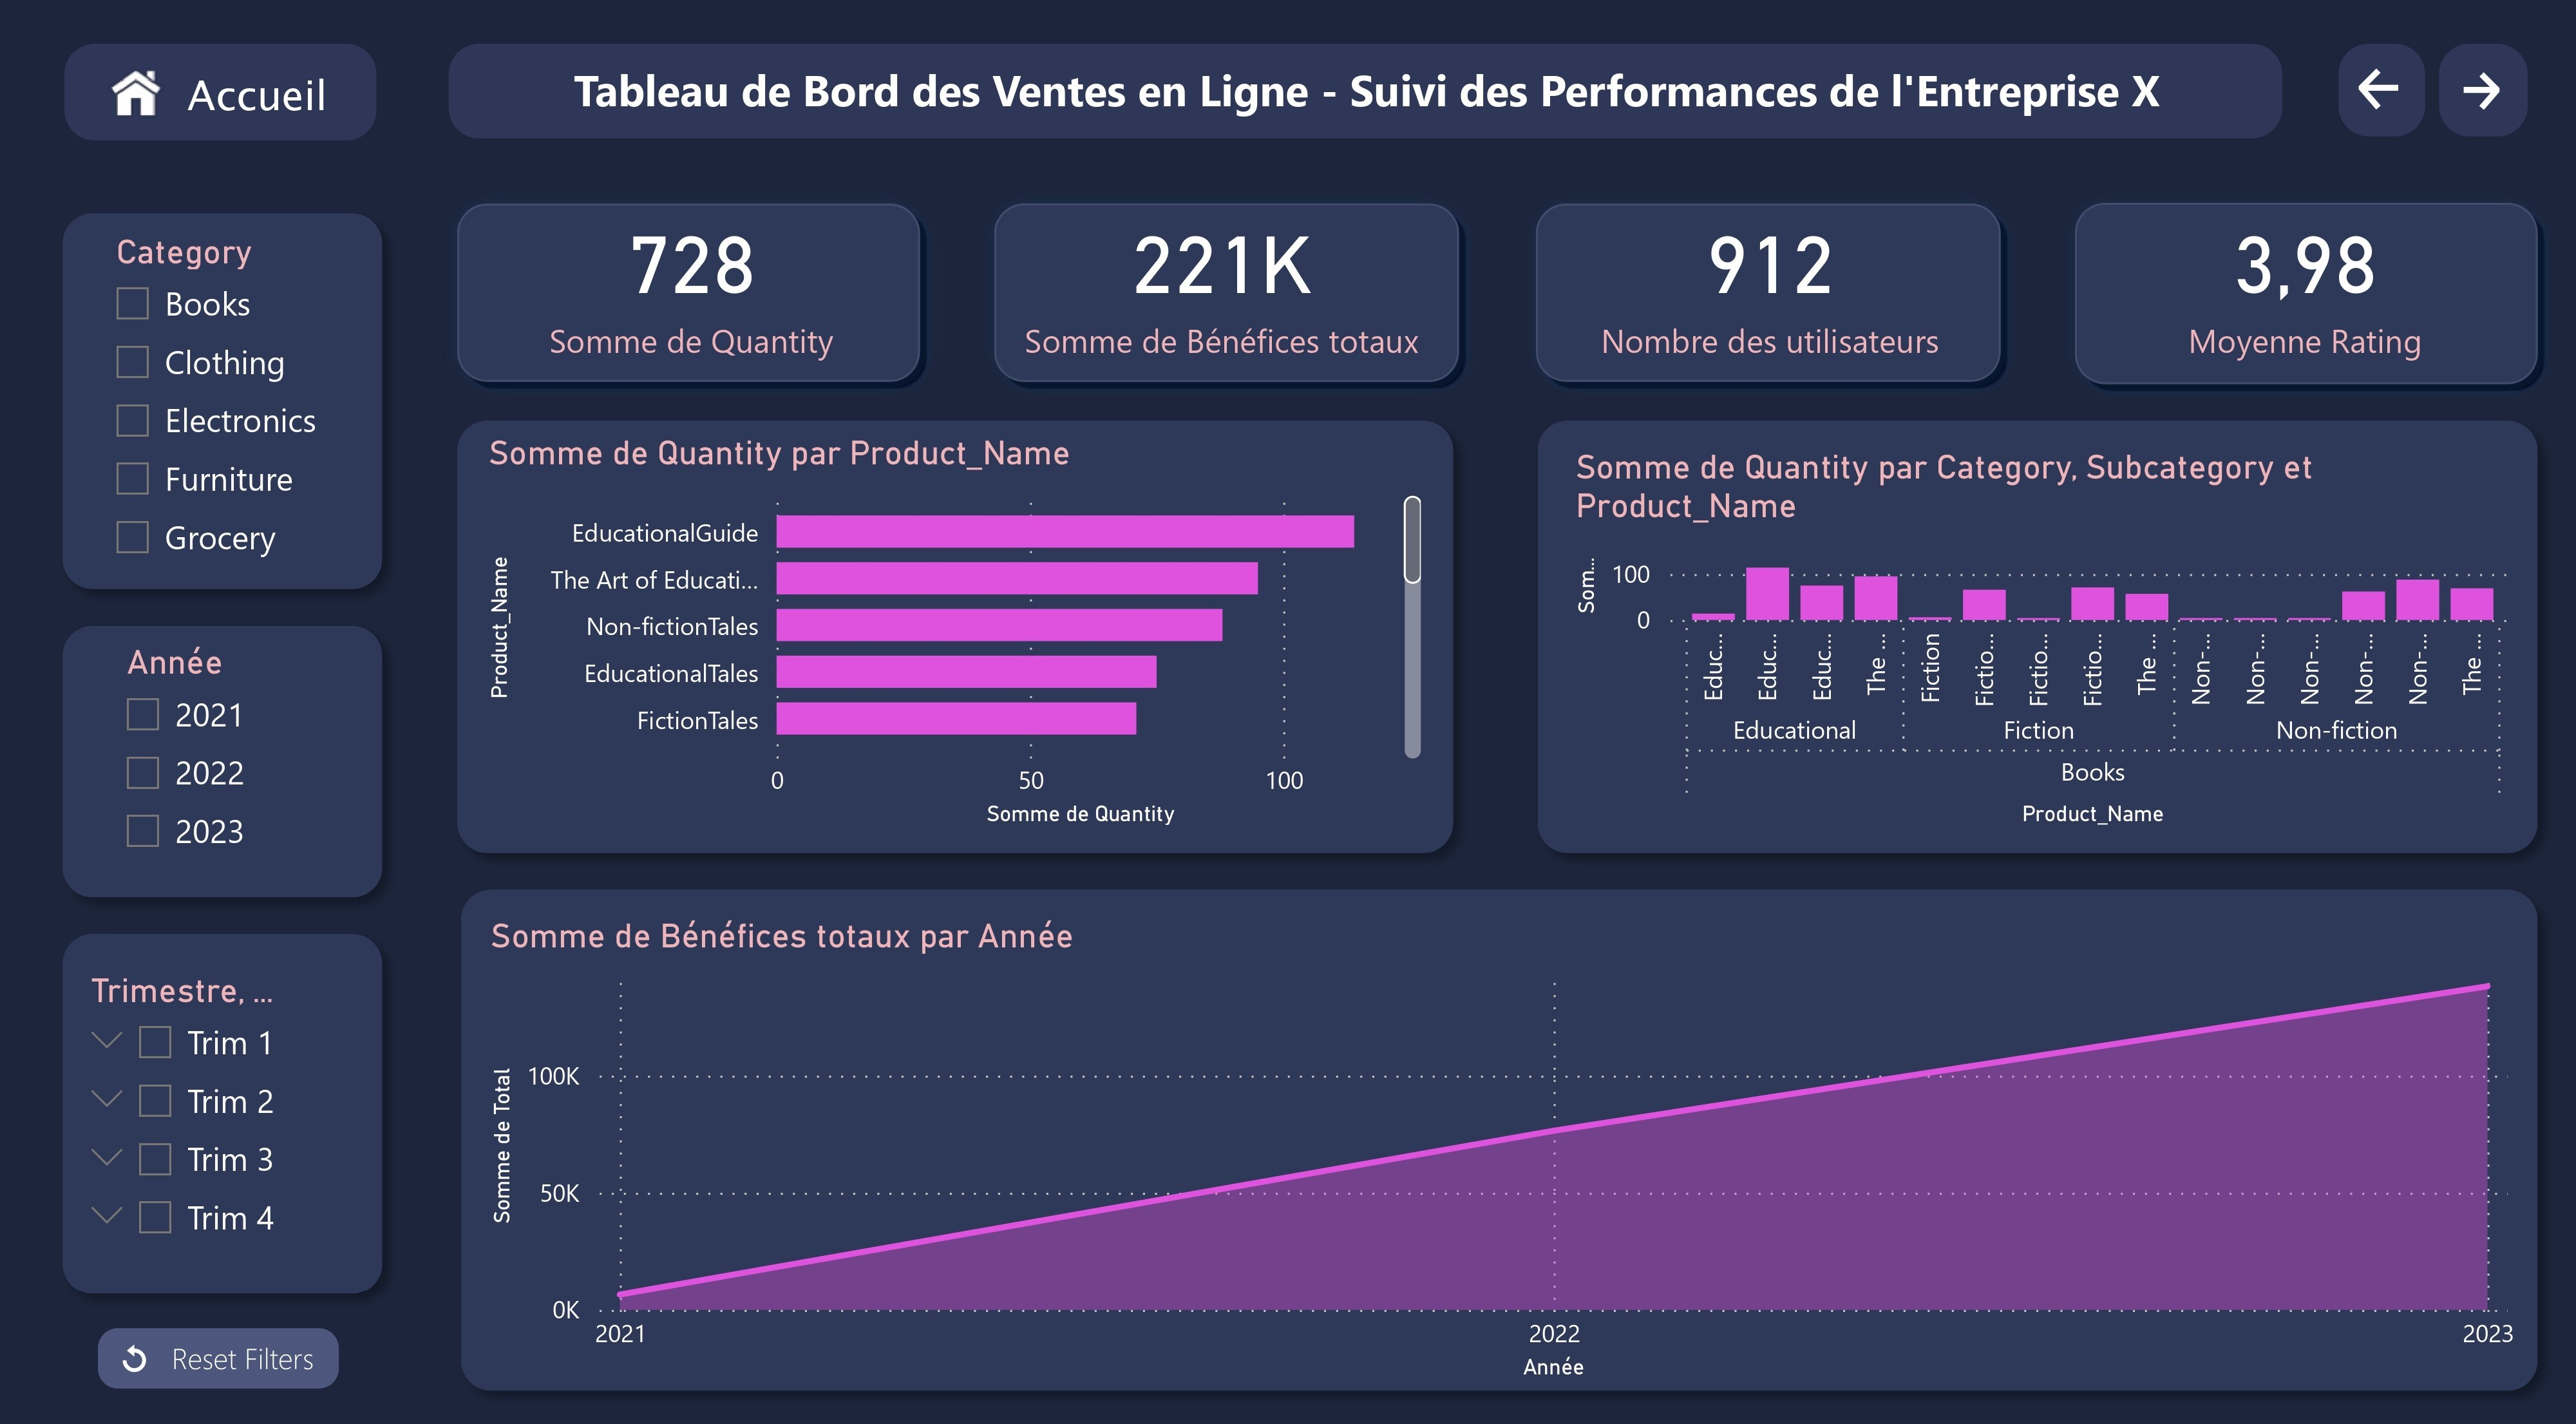

What the dashboard file says about the page in this screenshot:
{"tool":"powerbi","page":{"name":"Sales","canvas":[1280,720],"ordinal":0},"visuals":[{"type":"shape","box":[21.4,307.1,177.1,120],"z":0},{"type":"shape","box":[20,452.9,177.1,171.4],"z":1000},{"type":"shape","box":[218.8,97.4,246.5,104.7],"z":2000},{"type":"shape","box":[485.7,97.2,246.7,105.3],"z":3000},{"type":"shape","box":[755.5,100.2,246.8,104.7],"z":4000},{"type":"shape","box":[1023.4,96.5,246.3,105.8],"z":5000},{"type":"shape","box":[220,451.7,1045,243.3],"z":6000},{"type":"shape","box":[24.3,101.4,177.1,181.4],"z":7000},{"type":"shape","box":[223.3,220,508.3,206.7],"z":8000},{"type":"shape","box":[761.7,220,503.3,206.7],"z":9000},{"type":"shape","box":[222.9,25.7,911.4,47.1],"z":10000},{"type":"shape","box":[23.3,25,178.3,48.3],"z":11000},{"type":"card","fields":{"Values":["Sum(S_FactPurchases.Quantity)"]},"box":[238.6,98.6,208.6,102.9],"z":12000},{"type":"card","fields":{"Values":["S_FactPurchases.Moyenne Rating"]},"box":[1035.7,100,220,101.4],"z":13000},{"type":"card","fields":{"Values":["Sum(S_FactPurchases.Total)"]},"box":[502.9,100,210,101.4],"z":14000},{"type":"card","fields":{"Values":["S_DimUsers.User Count"]},"box":[777.1,100,202.9,101.4],"z":15000},{"type":"columnChart","fields":{"Category":["S_DimCategories.Category","S_DimSubcategories.Subcategory","S_DimProducts.Product_Name"],"Y":["Sum(S_FactPurchases.Quantity)"]},"box":[778.3,226.7,476.7,193.3],"z":16000},{"type":"barChart","fields":{"Category":["S_DimProducts.Product_Name"],"Y":["Sum(S_FactPurchases.Quantity)"]},"box":[238.3,220,493.3,200],"z":17000},{"type":"areaChart","fields":{"Category":["S_DimUserLastPurchaseDates.UserLastPurchaseDate.Variation.Hiérarchie de dates.Année","S_DimUserLastPurchaseDates.UserLastPurchaseDate.Variation.Hiérarchie de dates.Trimestre","S_DimUserLastPurchaseDates.UserLastPurchaseDate.Variation.Hiérarchie de dates.Mois","S_DimUserLastPurchaseDates.UserLastPurchaseDate.Variation.Hiérarchie de dates.Jour"],"Y":["Sum(S_FactPurchases.Total)"]},"box":[218.3,451.7,1036.7,243.3],"z":18000},{"type":"slicer","fields":{"Values":["S_DimCategories.Category"]},"box":[33.8,102.5,161.2,180],"z":19000},{"type":"slicer","fields":{"Values":["S_DimUserLastPurchaseDates.UserLastPurchaseDate.Variation.Hiérarchie de dates.Année"]},"box":[31.4,307.1,162.9,120],"z":20000},{"type":"slicer","fields":{"Values":["S_DimUserLastPurchaseDates.UserLastPurchaseDate.Variation.Hiérarchie de dates.Trimestre","S_DimUserLastPurchaseDates.UserLastPurchaseDate.Variation.Hiérarchie de dates.Mois"]},"box":[26.7,459.6,161.2,153.8],"z":21000},{"type":"textbox","box":[223.8,30,910,40],"z":22000},{"type":"shape","box":[1147.1,27.1,117.1,47.1],"z":23000},{"type":"actionButton","box":[1212,30,44,40],"z":24000},{"type":"actionButton","title":"Reset","box":[20,652.5,177.5,42.5],"z":24002},{"type":"actionButton","box":[1161.5,30,43.8,40],"z":24003}]}

Visuals, with their boxes in screenshot pixels (x1, y1, x2, y2), scaled from the page's 1280x720 canvas onto the 2576x1424 screenshot:
shape: {"x1": 43, "y1": 607, "x2": 399, "y2": 845}
shape: {"x1": 40, "y1": 896, "x2": 397, "y2": 1235}
shape: {"x1": 440, "y1": 193, "x2": 936, "y2": 400}
shape: {"x1": 978, "y1": 192, "x2": 1474, "y2": 401}
shape: {"x1": 1520, "y1": 198, "x2": 2017, "y2": 405}
shape: {"x1": 2060, "y1": 191, "x2": 2555, "y2": 400}
shape: {"x1": 443, "y1": 893, "x2": 2546, "y2": 1374}
shape: {"x1": 49, "y1": 200, "x2": 405, "y2": 559}
shape: {"x1": 450, "y1": 435, "x2": 1472, "y2": 844}
shape: {"x1": 1533, "y1": 435, "x2": 2546, "y2": 844}
shape: {"x1": 449, "y1": 51, "x2": 2283, "y2": 144}
shape: {"x1": 47, "y1": 50, "x2": 406, "y2": 145}
card - Sum(S_FactPurchases.Quantity): {"x1": 480, "y1": 195, "x2": 900, "y2": 399}
card - S_FactPurchases.Moyenne Rating: {"x1": 2085, "y1": 198, "x2": 2527, "y2": 398}
card - Sum(S_FactPurchases.Total): {"x1": 1012, "y1": 198, "x2": 1435, "y2": 398}
card - S_DimUsers.User Count: {"x1": 1564, "y1": 198, "x2": 1972, "y2": 398}
columnChart - S_DimCategories.Category x S_DimSubcategories.Subcategory: {"x1": 1566, "y1": 448, "x2": 2526, "y2": 831}
barChart - S_DimProducts.Product_Name x Sum(S_FactPurchases.Quantity): {"x1": 480, "y1": 435, "x2": 1472, "y2": 831}
areaChart - S_DimUserLastPurchaseDates.UserLastPurchaseDate.Variation.Hiérarchie de dates.Année x S_DimUserLastPurchaseDates.UserLastPurchaseDate.Variation.Hiérarchie de dates.Trimestre: {"x1": 439, "y1": 893, "x2": 2526, "y2": 1374}
slicer - S_DimCategories.Category: {"x1": 68, "y1": 203, "x2": 392, "y2": 559}
slicer - S_DimUserLastPurchaseDates.UserLastPurchaseDate.Variation.Hiérarchie de dates.Année: {"x1": 63, "y1": 607, "x2": 391, "y2": 845}
slicer - S_DimUserLastPurchaseDates.UserLastPurchaseDate.Variation.Hiérarchie de dates.Trimestre x S_DimUserLastPurchaseDates.UserLastPurchaseDate.Variation.Hiérarchie de dates.Mois: {"x1": 53, "y1": 909, "x2": 378, "y2": 1213}
textbox: {"x1": 450, "y1": 59, "x2": 2282, "y2": 138}
shape: {"x1": 2309, "y1": 53, "x2": 2544, "y2": 147}
actionButton: {"x1": 2439, "y1": 59, "x2": 2528, "y2": 138}
"Reset" actionButton: {"x1": 40, "y1": 1291, "x2": 397, "y2": 1374}
actionButton: {"x1": 2338, "y1": 59, "x2": 2426, "y2": 138}
